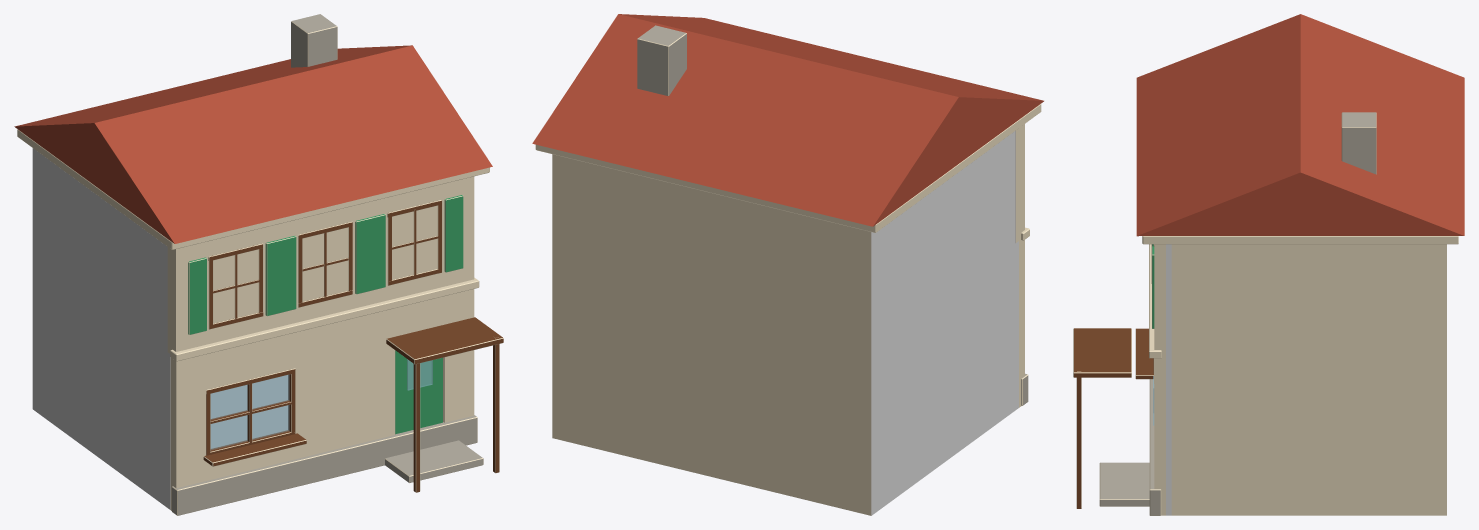
Rendered from bld_house_a.glb.
3 renders of one model, left to right at view 1: azimuth 30°, elevation 25°; view 2: azimuth 150°, elevation 25°; view 3: azimuth 270°, elevation 25°, orthographic. The views are drawn at different scales.
Parts seen in each view (by area): view 1: bld_house_a, COL_bld_house_a_1; view 2: bld_house_a, COL_bld_house_a_1; view 3: bld_house_a, COL_bld_house_a_1.
Part boxes in pixels (x1,y1,x2,y2): bld_house_a: (14,14,503,515); COL_bld_house_a_1: (32,148,287,509); bld_house_a: (532,14,1043,515); COL_bld_house_a_1: (871,131,1018,515); bld_house_a: (1073,14,1464,515); COL_bld_house_a_1: (1166,244,1171,515).
Bounding box in the file's own units: 6.4 × 6.9 × 6.68.
